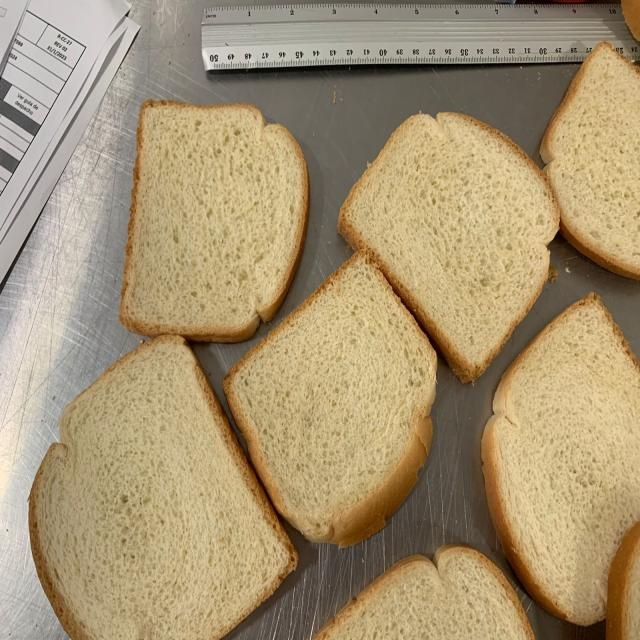sliced_bread: (223, 250, 437, 547), (338, 111, 561, 383), (121, 101, 311, 343)
